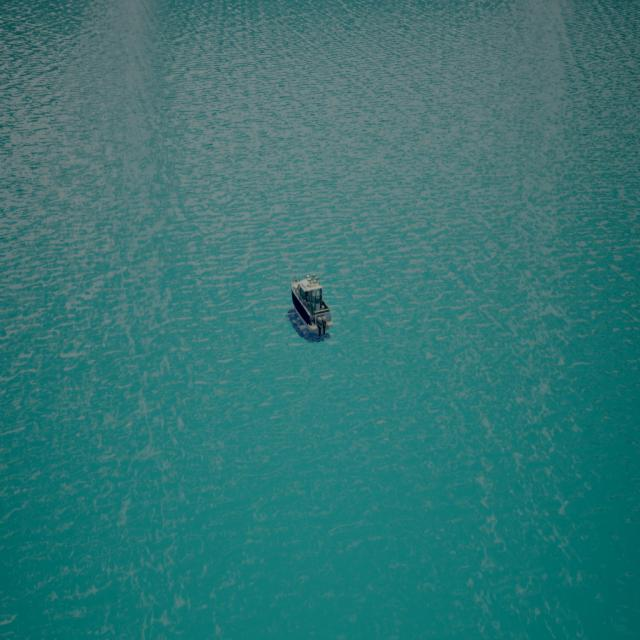ship: (288, 265, 333, 347)
